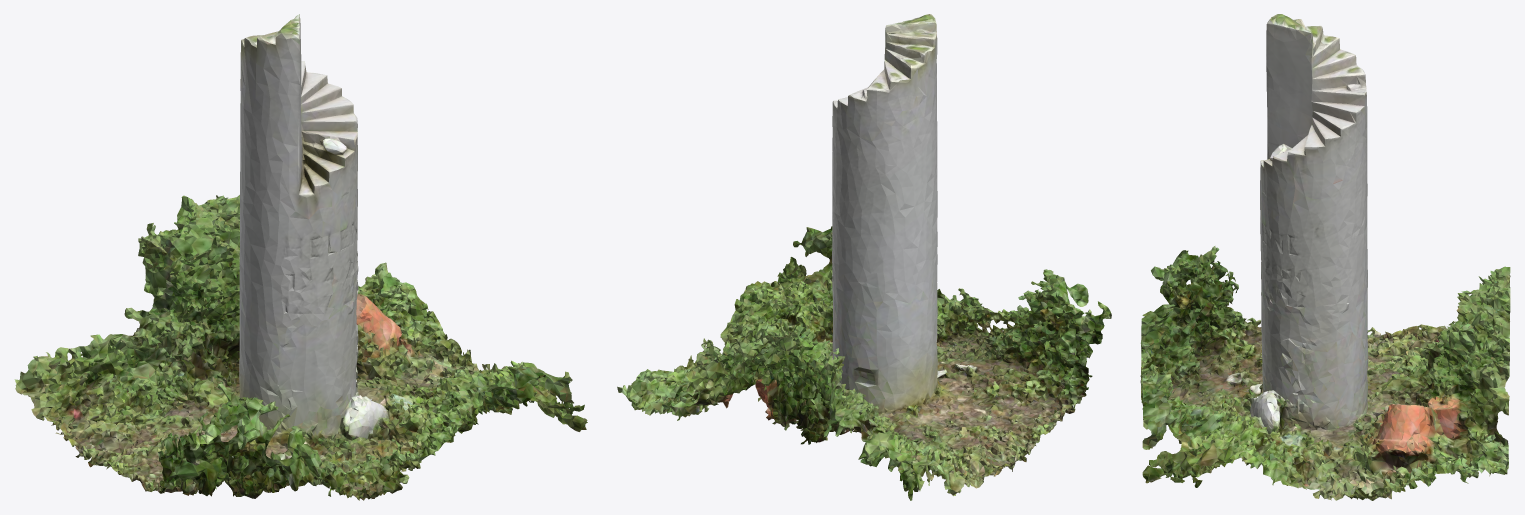
3 renders of one model, left to right at view 1: azimuth 30°, elevation 25°; view 2: azimuth 150°, elevation 25°; view 3: azimuth 270°, elevation 25°, orthographic. The views are drawn at different scales.
Parts seen in each view (by area): view 1: 512.25k; view 2: 512.25k; view 3: 512.25k.
Boxes of the visible parts, left/top/right/bottom form: 512.25k: left=14, top=14, right=587, bottom=500; 512.25k: left=617, top=14, right=1111, bottom=500; 512.25k: left=1140, top=14, right=1510, bottom=500.
Size of the model in its own units: 3.66 by 4.07 by 3.38.
1 material, 1 textured.
